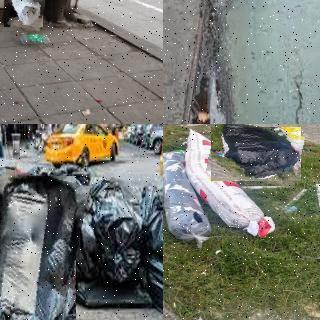Garbage: (0, 172, 83, 320), (208, 124, 303, 185), (90, 192, 150, 285), (139, 193, 163, 320), (2, 0, 44, 29)
